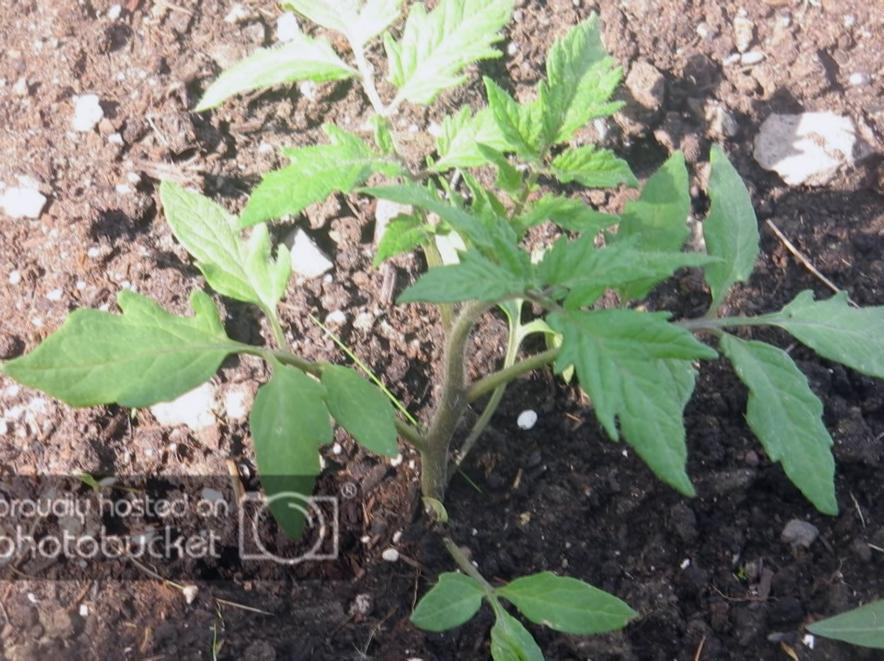Tomato leaf: (558, 302, 709, 507), (10, 293, 234, 424), (230, 359, 345, 547), (146, 170, 291, 316), (375, 0, 523, 107), (224, 131, 373, 236), (764, 284, 884, 402), (536, 22, 624, 160), (539, 235, 722, 301), (705, 139, 771, 312), (494, 563, 646, 634), (318, 365, 406, 476), (420, 102, 529, 175), (410, 260, 542, 320), (394, 560, 498, 629), (476, 81, 545, 169), (543, 150, 642, 192), (485, 610, 554, 661)
